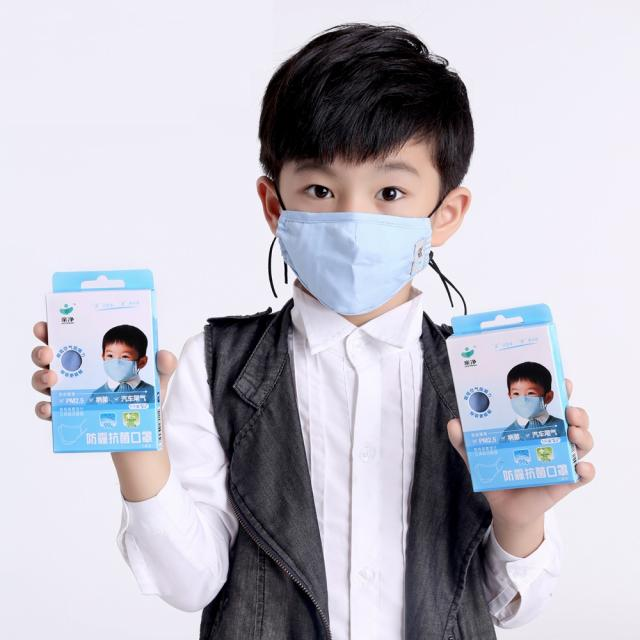mask: (276, 103, 438, 313), (103, 342, 135, 379), (509, 380, 541, 415)
